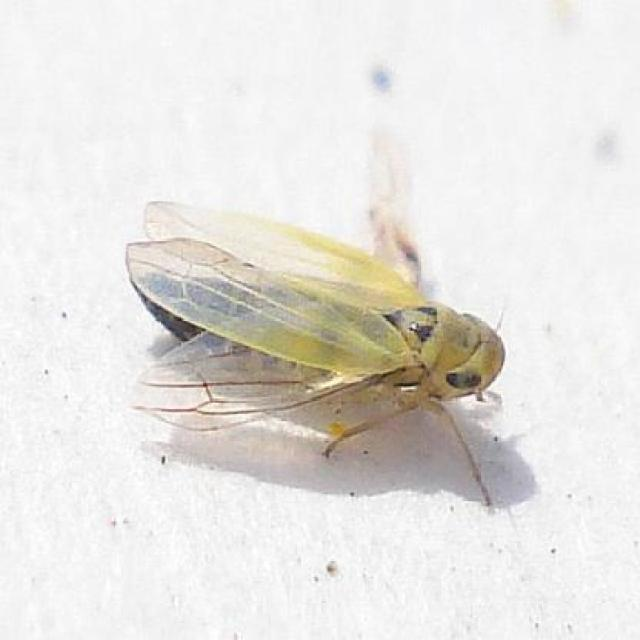green-leafhopper: (142, 199, 492, 504)
